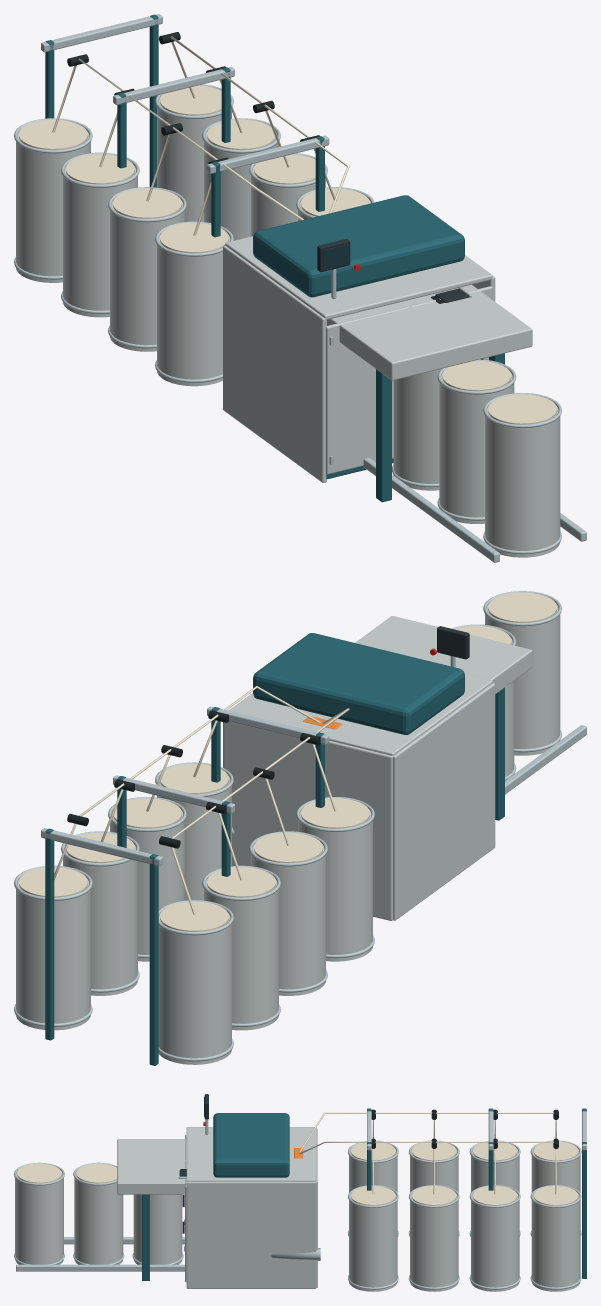
File: drawing.glb
The picture shows the model from 3 angles, top to bottom: view 1: azimuth 30°, elevation 25°; view 2: azimuth 150°, elevation 25°; view 3: azimuth 270°, elevation 25°; orthographic projection. The views are drawn at different scales.
Visible parts, largest first — view 1: RSBD55_main_end, RSBD55_drafting_hood, coiler_bridge, can_body.002, can_body.003, RSBD55_main_door, can_body.007, can_body.009, can_body.005, can_body.001, RSBD55_main_roof, can_body (+21 smaller); view 2: RSBD55_main_end, RSBD55_main_rear, RSBD55_drafting_hood, can_body.009, can_body.010, can_body.005, can_body.007, can_body.003, can_body.008, can_body.002, coiler_bridge, RSBD55_main_roof (+24 smaller); view 3: RSBD55_main_end.001, RSBD55_drafting_hood, can_body.010, can_body.004, can_body.006, can_body.008, can_body.002, can_body.001, coiler_bridge, RSBD55_main_roof, can_body, can_body.009 (+23 smaller).
Part boxes in pixels (box(x1,y1,x2,y2)): RSBD55_main_end: box(223, 245, 326, 482); RSBD55_drafting_hood: box(253, 195, 464, 297); coiler_bridge: box(327, 284, 532, 380); can_body.002: box(485, 406, 560, 557); can_body.003: box(157, 234, 230, 386); RSBD55_main_door: box(326, 306, 408, 474); can_body.007: box(63, 166, 137, 317); can_body.009: box(16, 131, 90, 282); can_body.005: box(110, 200, 184, 351); can_body.001: box(439, 373, 514, 523); RSBD55_main_roof: box(225, 236, 492, 319); can_body: box(393, 368, 441, 490); RSBD55_main_end: box(393, 683, 495, 920); RSBD55_main_rear: box(224, 721, 392, 920); RSBD55_drafting_hood: box(253, 633, 464, 734); can_body.009: box(158, 913, 231, 1064); can_body.010: box(16, 879, 90, 1030); can_body.005: box(251, 844, 325, 995); can_body.007: box(204, 879, 278, 1030); can_body.003: box(298, 810, 372, 961); can_body.008: box(63, 845, 137, 995); can_body.002: box(485, 604, 560, 755); coiler_bridge: box(355, 616, 532, 693); RSBD55_main_roof: box(229, 674, 492, 755); RSBD55_main_end.001: box(186, 1181, 316, 1288); RSBD55_drafting_hood: box(213, 1113, 289, 1177); can_body.010: box(531, 1194, 580, 1291); can_body.004: box(349, 1194, 397, 1291); can_body.006: box(410, 1194, 458, 1291); can_body.008: box(471, 1194, 519, 1291); can_body.002: box(15, 1172, 63, 1264); can_body.001: box(74, 1172, 123, 1264); coiler_bridge: box(117, 1139, 186, 1194); RSBD55_main_roof: box(186, 1127, 316, 1181); can_body: box(133, 1194, 182, 1264); can_body.009: box(531, 1149, 580, 1192).
Size of the model in its own units: 1.93 by 1.96 by 7.05.
